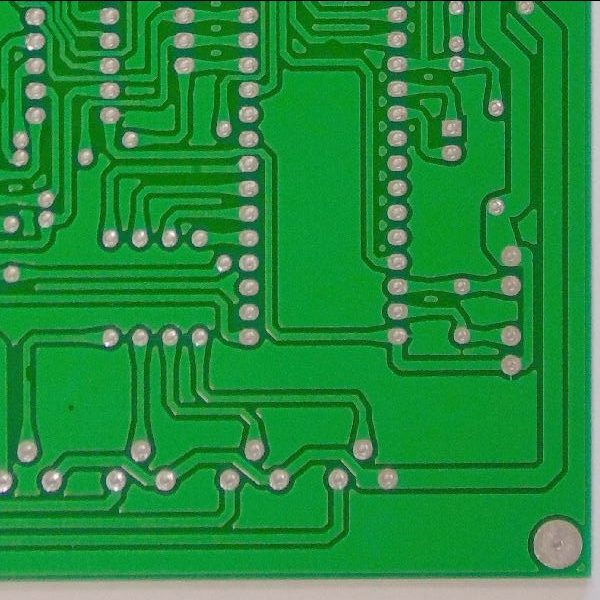mouse_bite: (18, 360, 35, 388), (321, 35, 344, 50)
